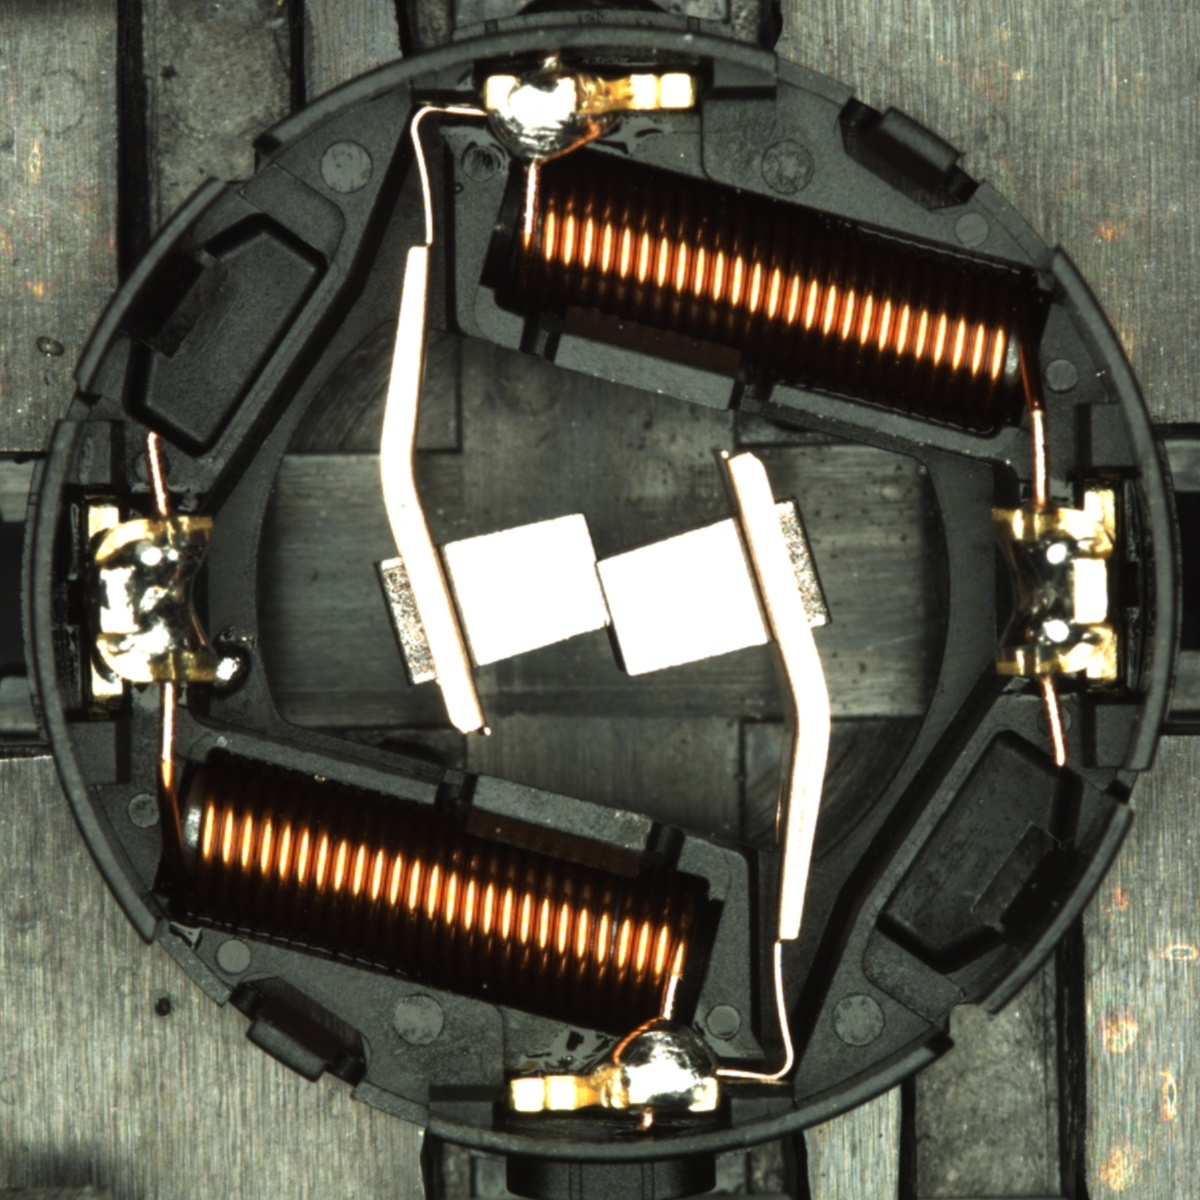1: (713, 929, 943, 1154), (255, 32, 484, 256)
2: (255, 929, 484, 1154), (713, 32, 943, 256)
3: (25, 256, 255, 480), (943, 704, 1171, 929)
4: (713, 704, 943, 929), (255, 256, 484, 480)
5: (484, 816, 713, 1042), (484, 144, 713, 368)
6: (713, 256, 943, 480), (255, 704, 484, 929)
7: (25, 704, 255, 929), (943, 256, 1171, 480)
cacbon: (395, 499, 802, 686)
chau_dien: (84, 497, 224, 699), (985, 488, 1125, 687)
hat_chi: (203, 643, 251, 692)
tay_choi: (482, 69, 700, 168), (508, 1016, 722, 1116)
thanh_de: (954, 787, 1141, 1031), (59, 164, 246, 405)
vun_chi: (204, 643, 251, 695)
